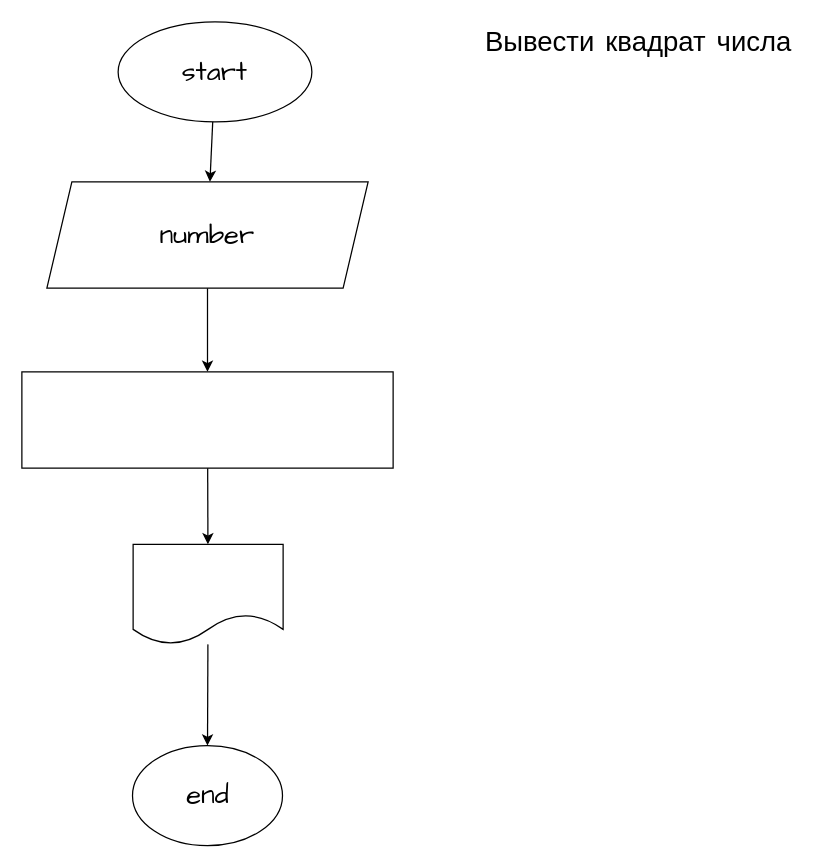
The diagram is 819 pixels wide and 868 high, and some of its shapes have lost their labels. Each missing label, with the centre of its shape:
result: the point at 207,593
result = number * number: the point at 207,419
